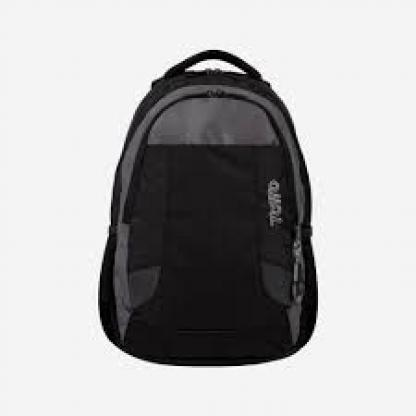morral: (87, 22, 335, 370)
